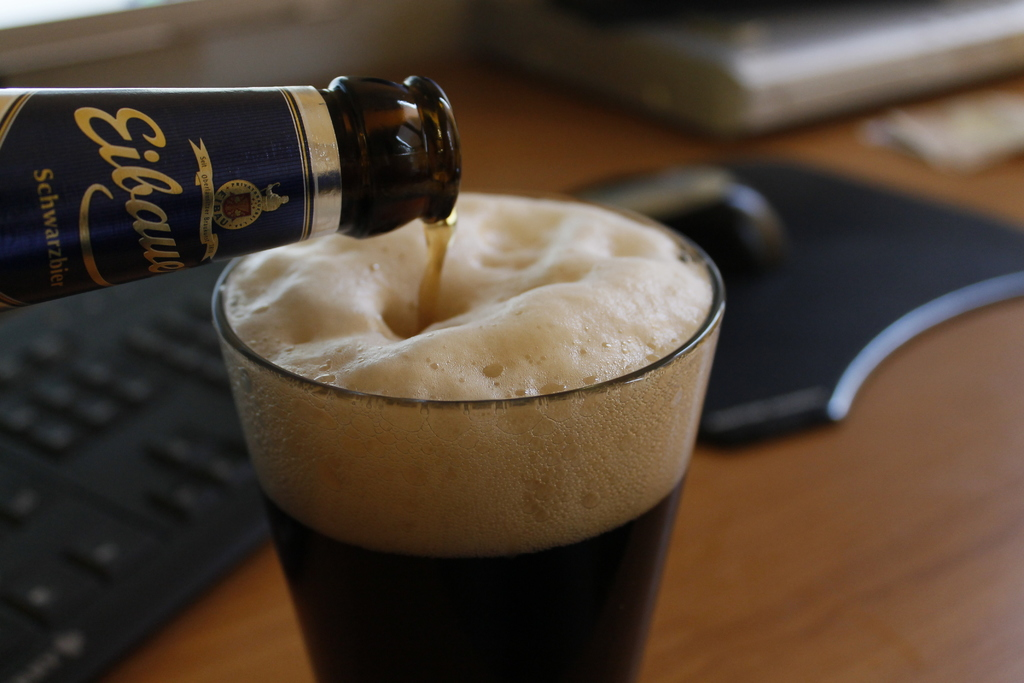Beer: (210, 186, 726, 682)
